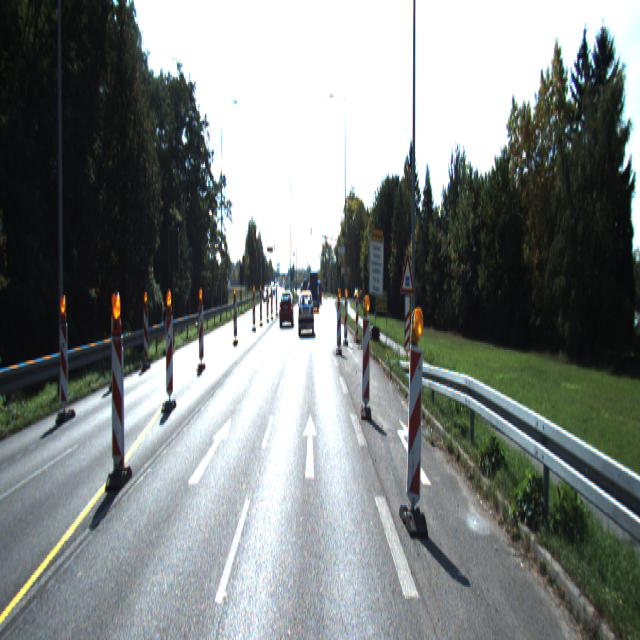Car: (298, 297, 314, 340), (279, 291, 294, 329), (310, 272, 318, 312)
